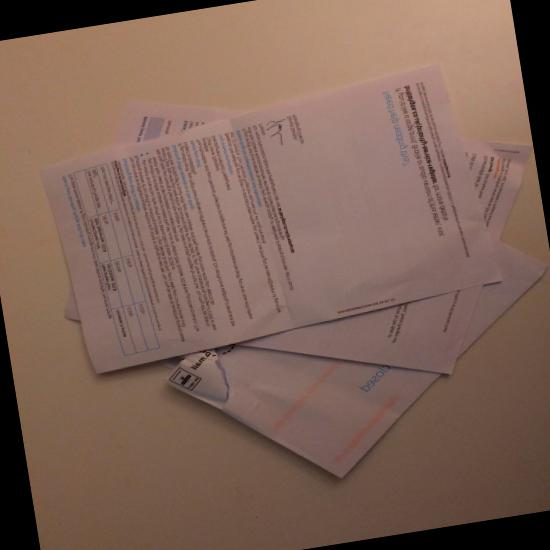Normal paper: (38, 63, 502, 374), (64, 99, 533, 374), (162, 239, 549, 478)
